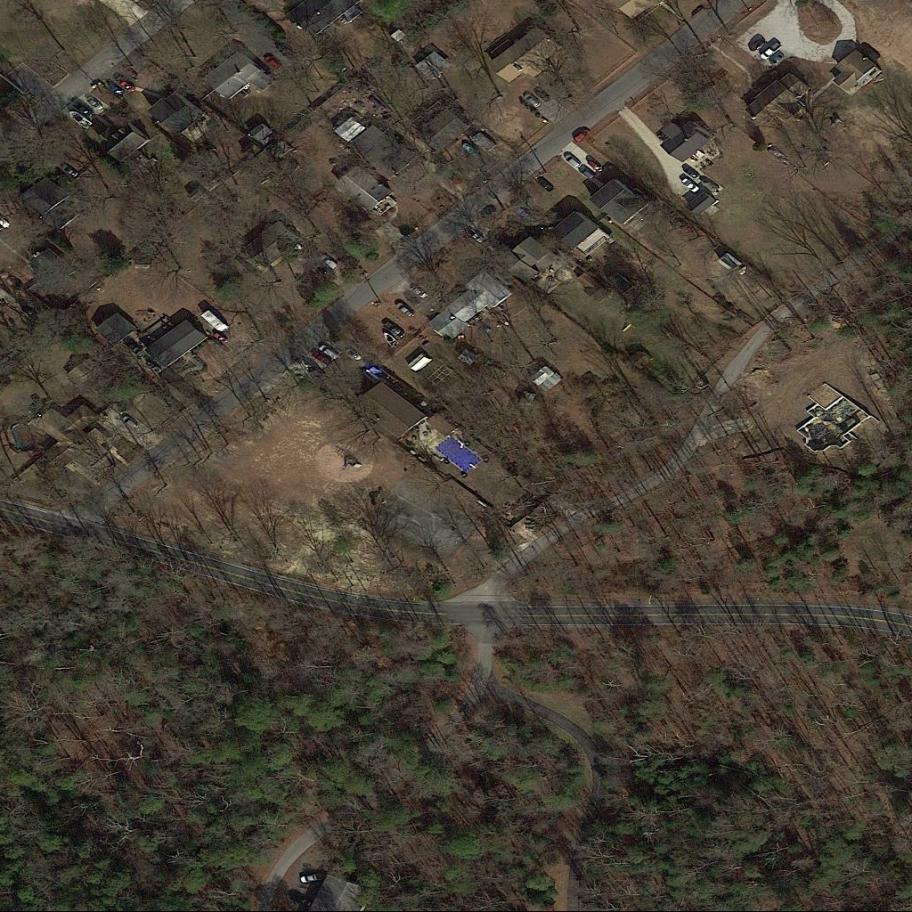large-vehicle: (382, 319, 408, 340), (760, 39, 784, 61), (464, 225, 486, 246), (409, 283, 428, 302), (300, 871, 325, 885)
ship: (66, 108, 94, 132), (381, 328, 400, 349)
small-vehicle: (71, 99, 97, 121), (114, 74, 137, 96), (395, 300, 416, 321), (318, 342, 340, 362), (59, 160, 80, 180), (535, 174, 557, 193), (532, 84, 552, 104), (105, 78, 125, 98), (120, 414, 141, 433), (310, 350, 332, 368), (563, 151, 582, 171), (86, 94, 106, 113), (319, 252, 338, 271), (262, 53, 281, 72), (747, 36, 767, 54), (681, 164, 702, 181), (578, 164, 597, 182), (524, 91, 542, 109), (586, 157, 604, 175), (680, 177, 700, 193), (768, 50, 786, 67), (125, 338, 142, 356), (478, 204, 497, 220), (345, 347, 363, 363), (574, 127, 590, 144), (297, 896, 316, 910), (124, 65, 139, 80), (213, 332, 229, 346)
